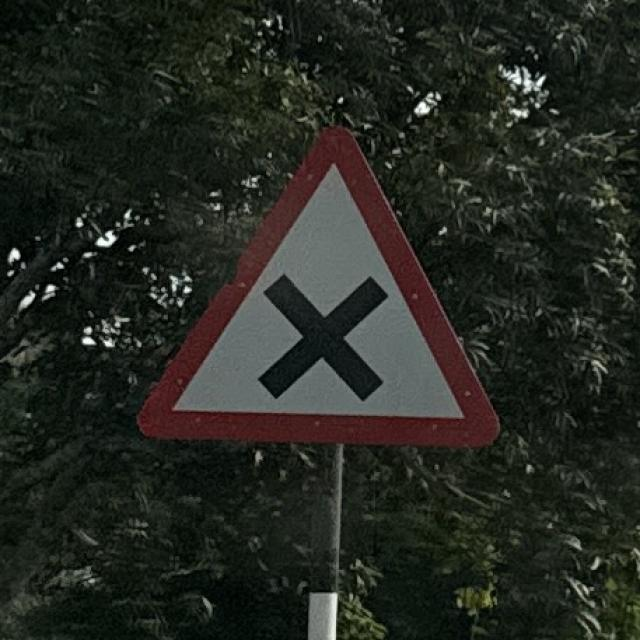CROSS_ROAD: (119, 114, 509, 461)
